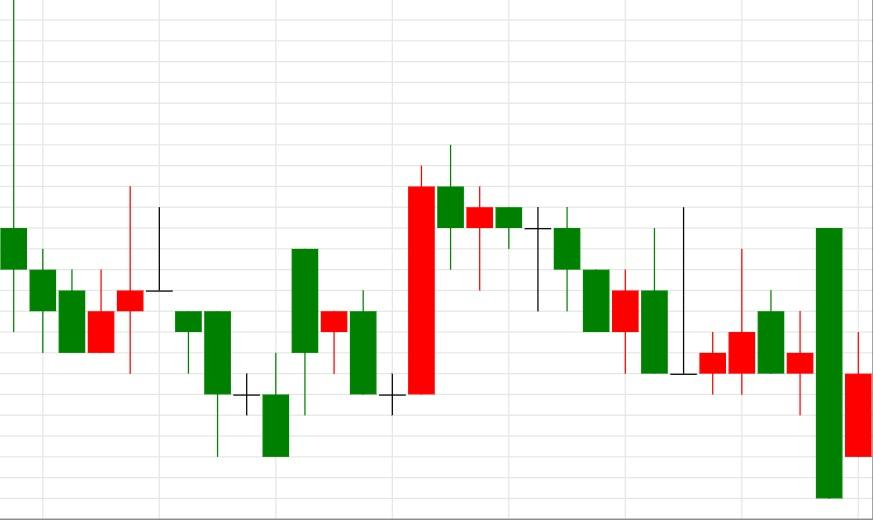morning_star_rise: (291, 164, 436, 416)
